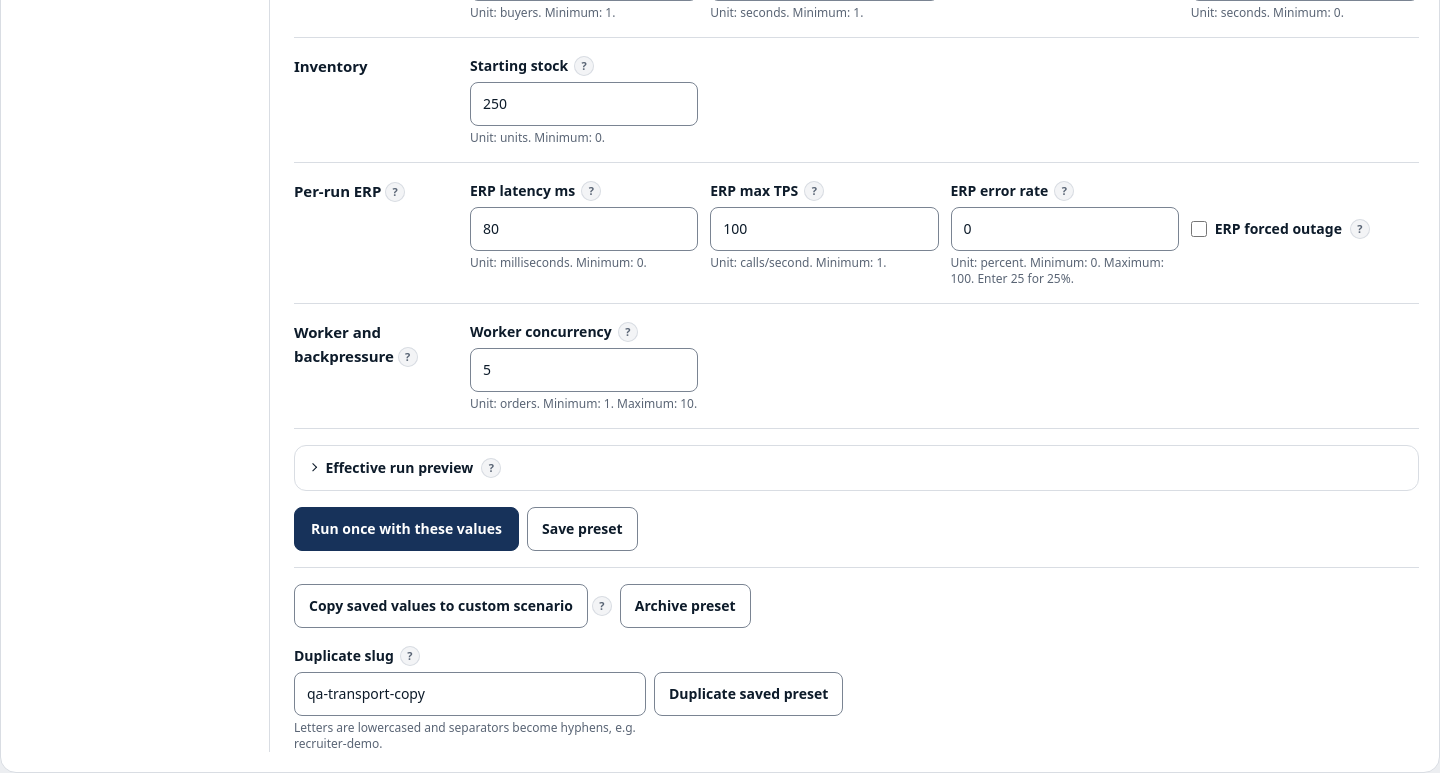
Scenario: admin feature controllers › QA transport: preset archive › releases pending after an unavailable response without claiming success or retrying
This screenshot has width=1440, height=773.
(page scrolled)
Click the button "Archive preset". click: (685, 606)
box: top-left (620, 584), bottom-right (751, 628)
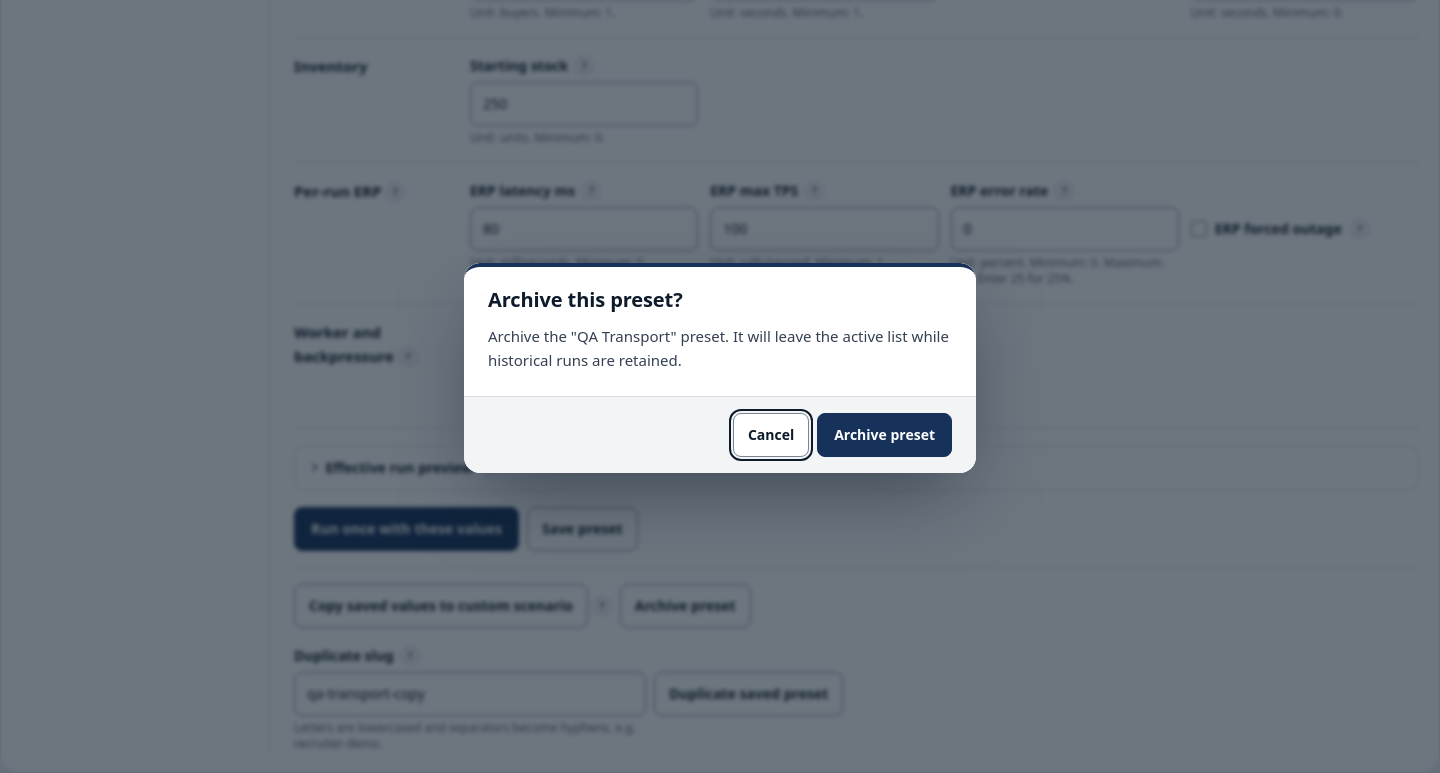
Click the button "Archive preset". click: (885, 435)
box: top-left (817, 413), bottom-right (952, 457)
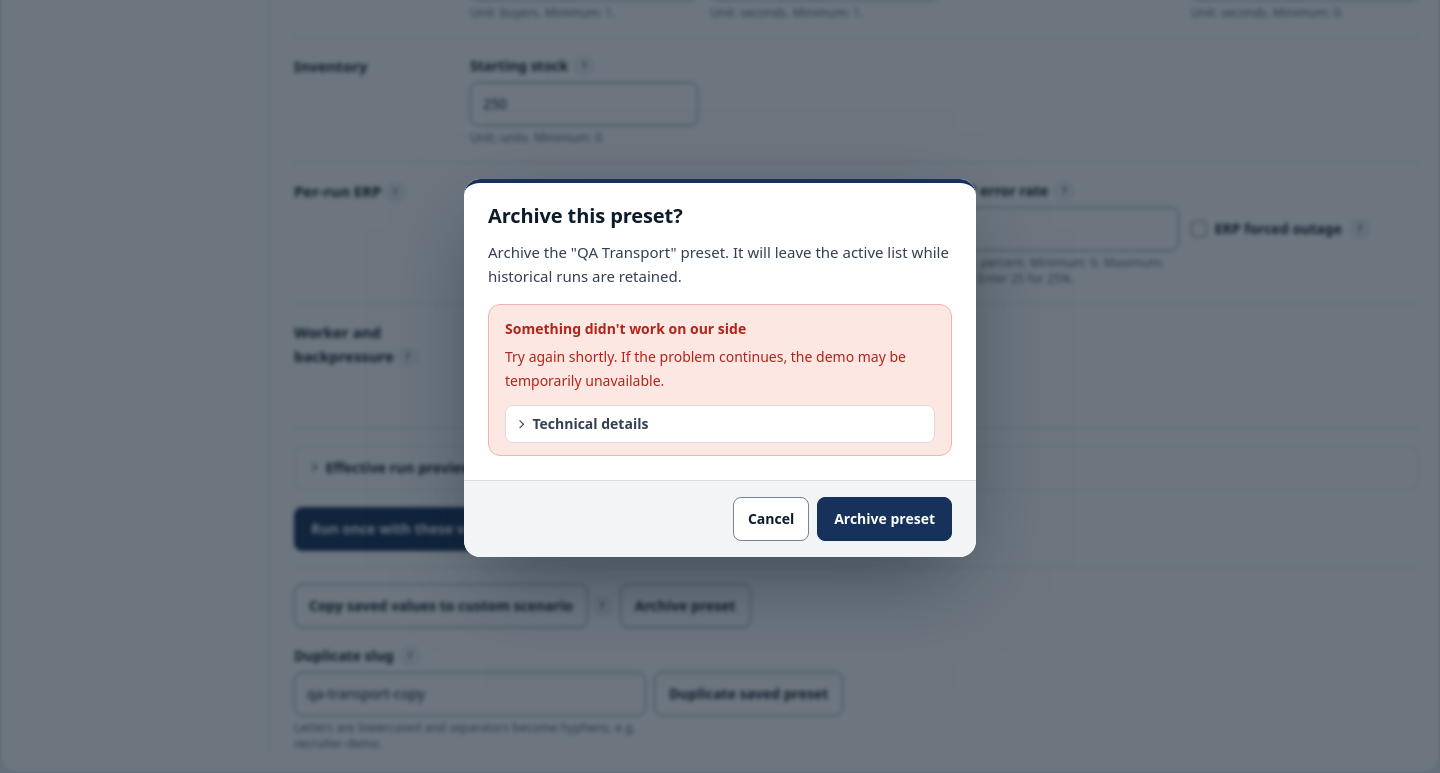
expect the button "Archive preset" is enabled: met, box top-left (817, 497), bottom-right (952, 541)
expect the dialog is shown: met, box top-left (464, 179), bottom-right (976, 557)
expect the message is shown: met, box top-left (488, 304), bottom-right (952, 456)
